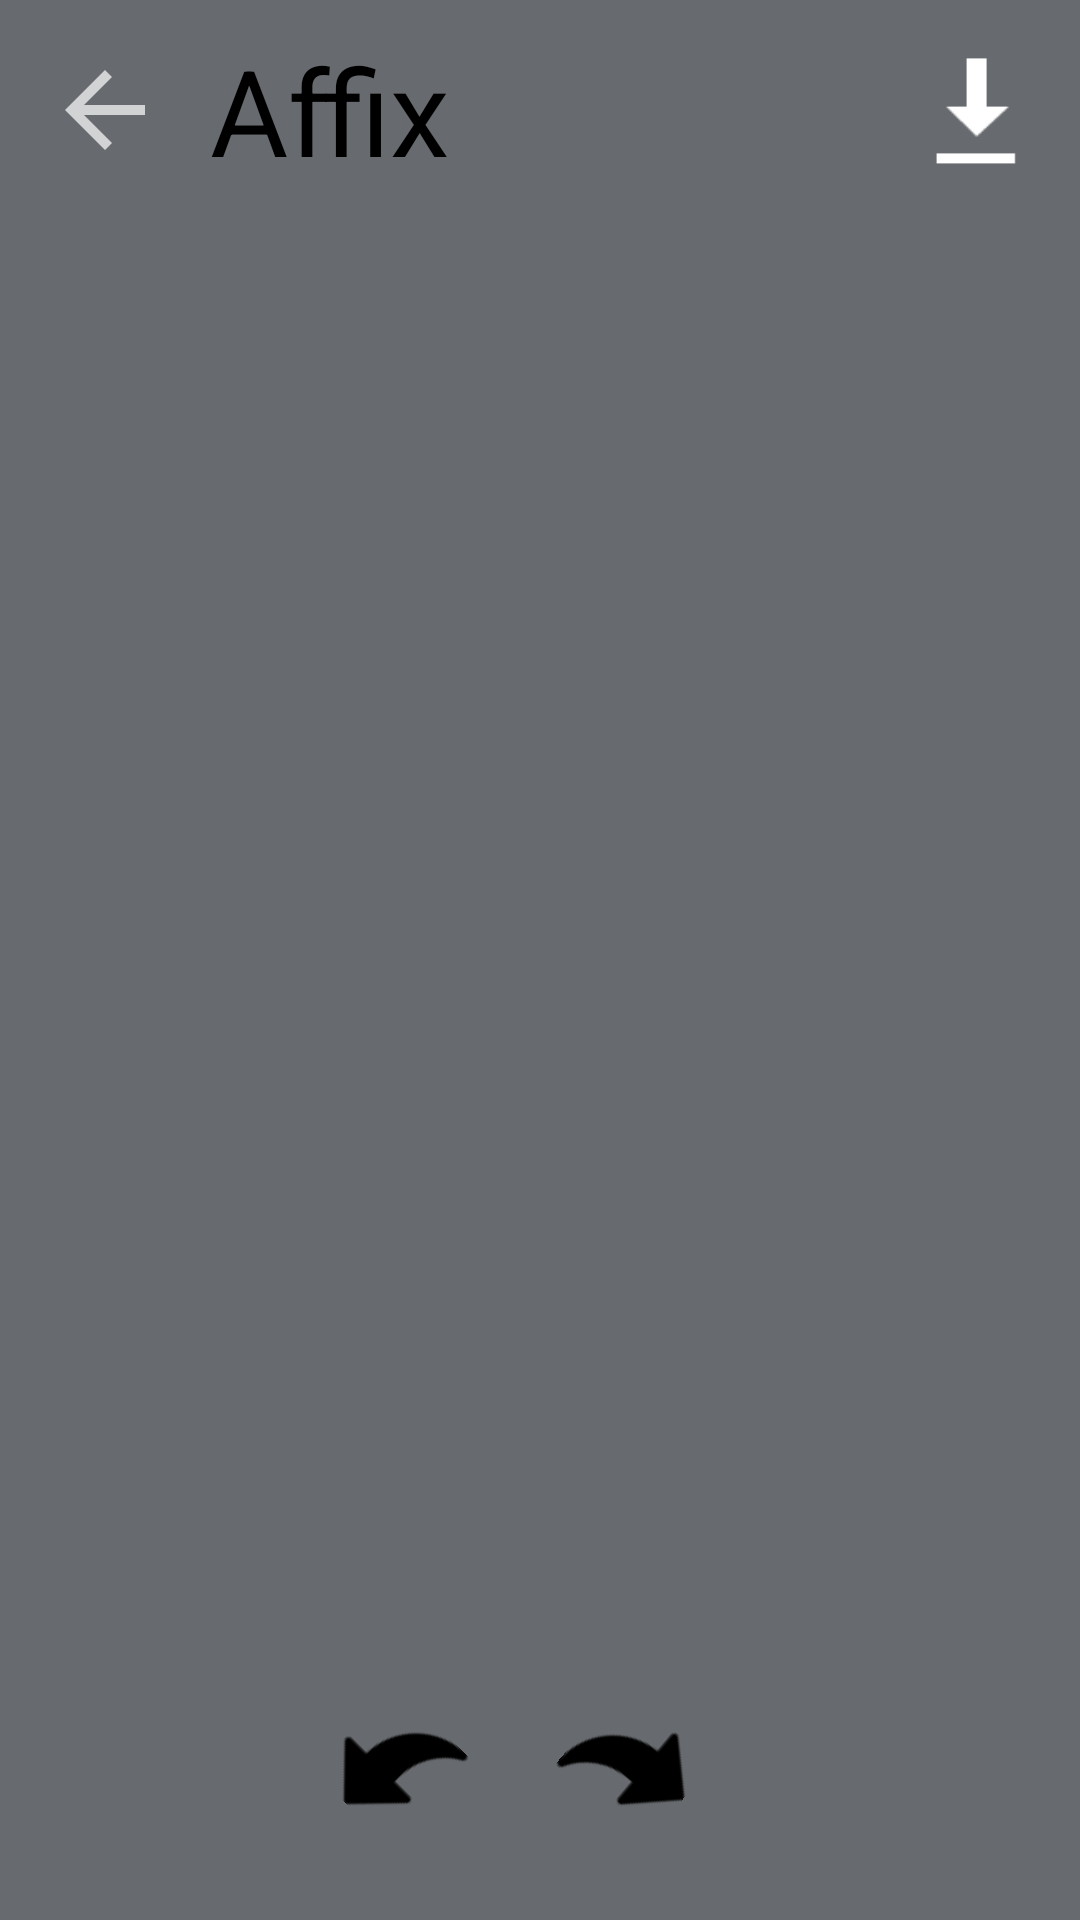

Icon click points for this 1080*1920 phone screenshot, format [x,y]:
download: [976,111]
